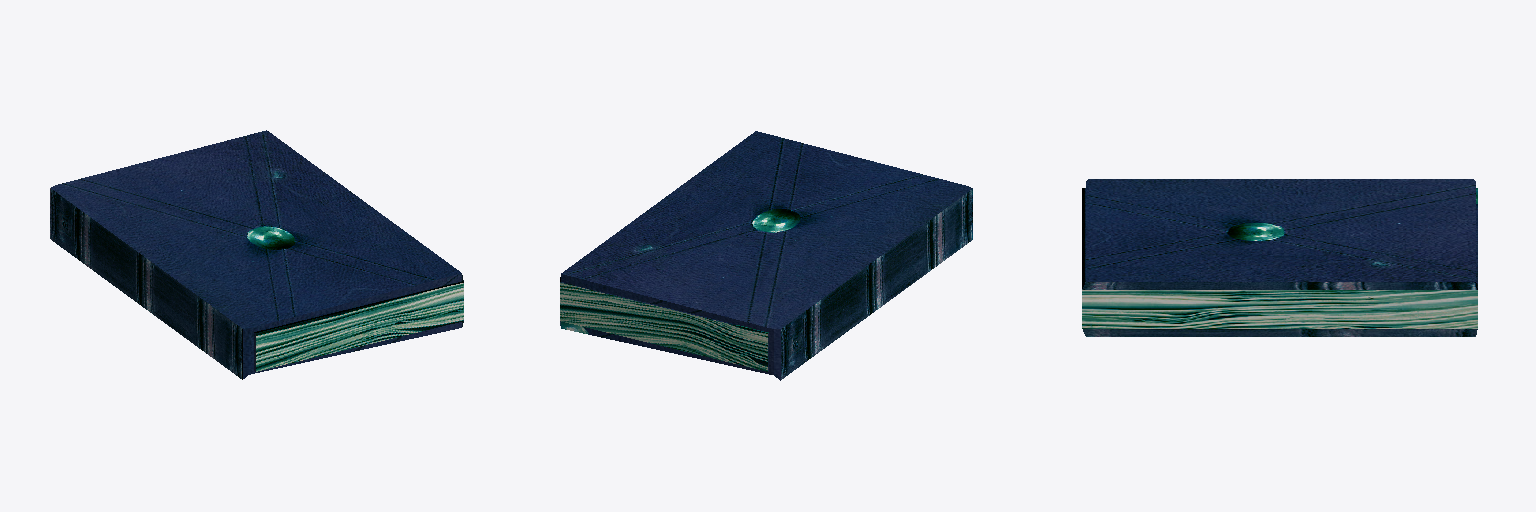
The picture shows the model from 3 angles: view 1: azimuth 30°, elevation 25°; view 2: azimuth 150°, elevation 25°; view 3: azimuth 270°, elevation 25°; orthographic projection.
Visible parts, largest first — view 1: Cube; view 2: Cube; view 3: Cube.
Boxes of the visible parts, x1=… form: Cube: x1=50, y1=130, x2=463, y2=379; Cube: x1=560, y1=131, x2=972, y2=380; Cube: x1=1082, y1=179, x2=1477, y2=336.
Bounding box in the file's own units: 1.96 × 0.4701 × 3.08.
1 materials, 1 textured.